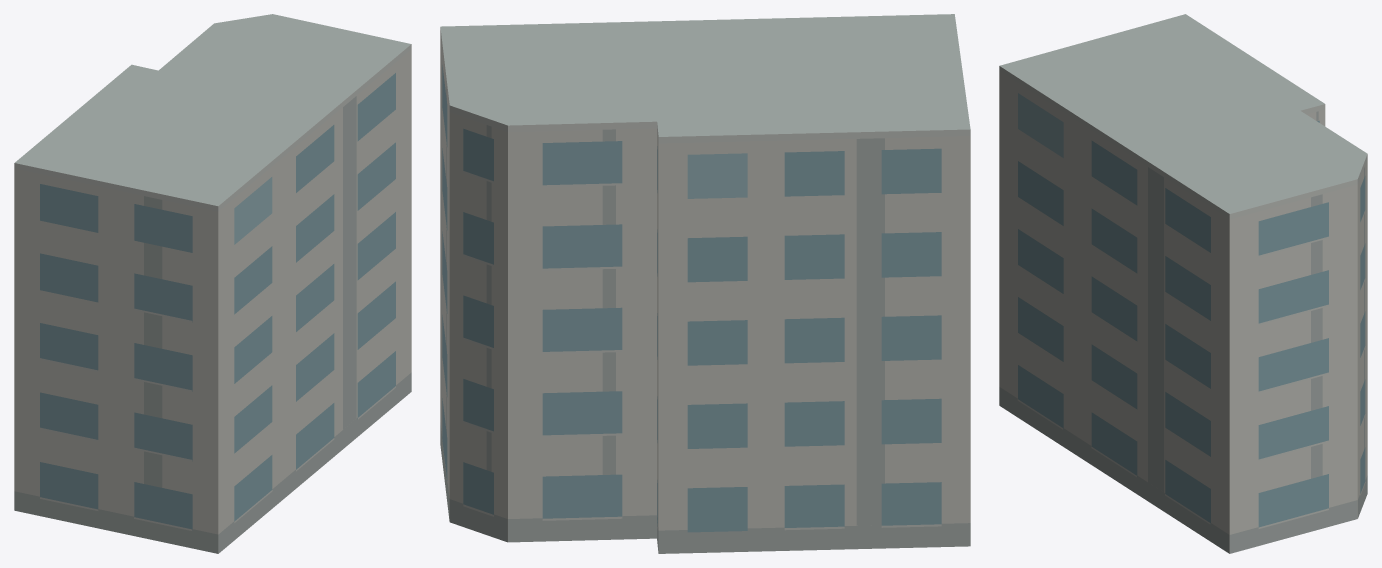
File: survey-upis-32703289.glb
The picture shows the model from 3 angles, left to right: view 1: azimuth 30°, elevation 25°; view 2: azimuth 150°, elevation 25°; view 3: azimuth 270°, elevation 25°; orthographic projection. The views are drawn at different scales.
Visible parts, largest first — view 1: survey-upis-32703289.tmp; view 2: survey-upis-32703289.tmp; view 3: survey-upis-32703289.tmp.
Part boxes in pixels (<box>): survey-upis-32703289.tmp: <box>14,14,411,553</box>; survey-upis-32703289.tmp: <box>440,14,970,553</box>; survey-upis-32703289.tmp: <box>999,14,1367,553</box>.
Size of the model in its own units: 19.27 by 15.25 by 14.99.
